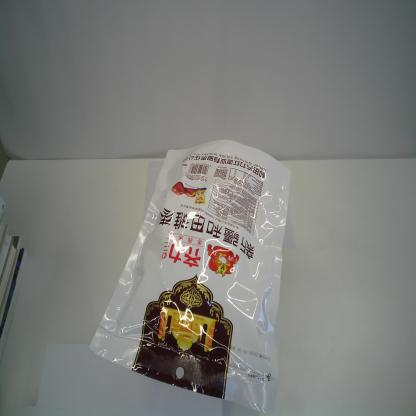Dried Food: (88, 138, 292, 414)
